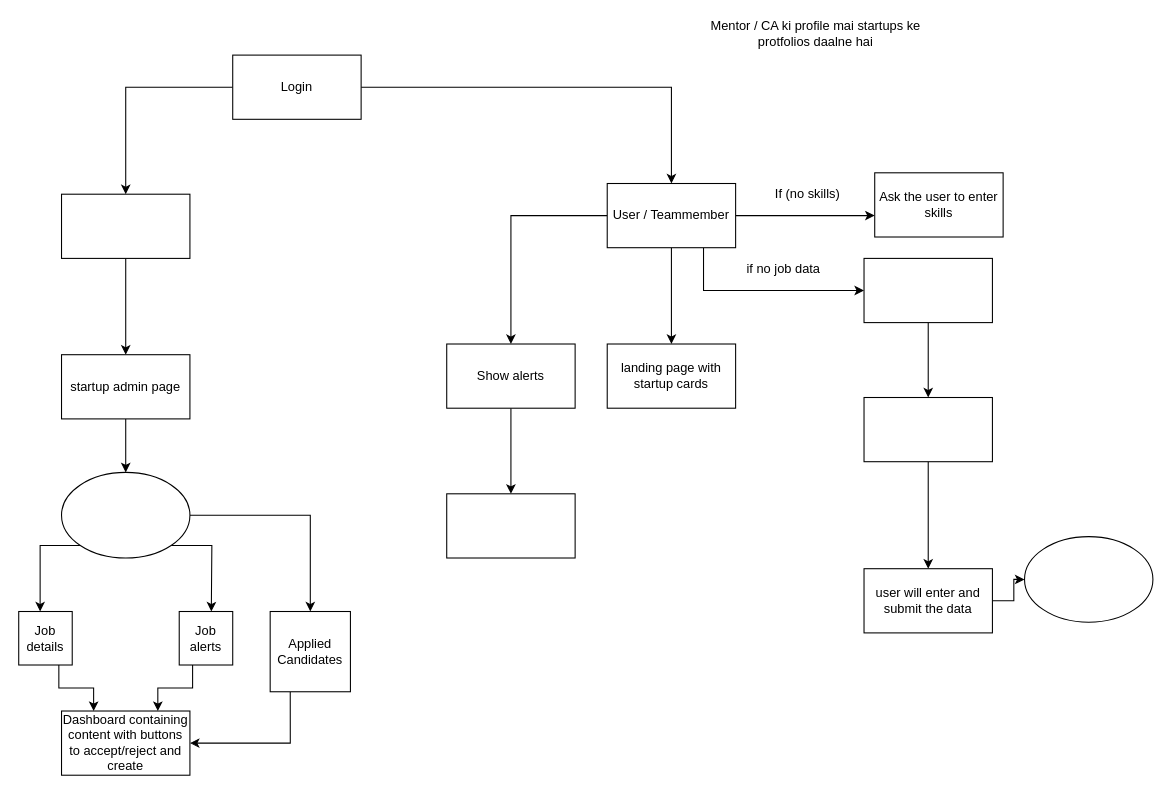
Image size: 1172x794. Some labels were removed from this diagram. Each missing label, with the centre of its shape:
Ask to enter job details: point (927, 290)
Clicking will open alert detail page where user can apply: point (510, 525)
data will be stored a pending in db: point (1088, 579)
navbar/sidebar containing job alerts, job details requests, showing number: point (125, 514)
Siggestions for the startup user's working in using searh type something: point (927, 429)
Startup: point (125, 225)
